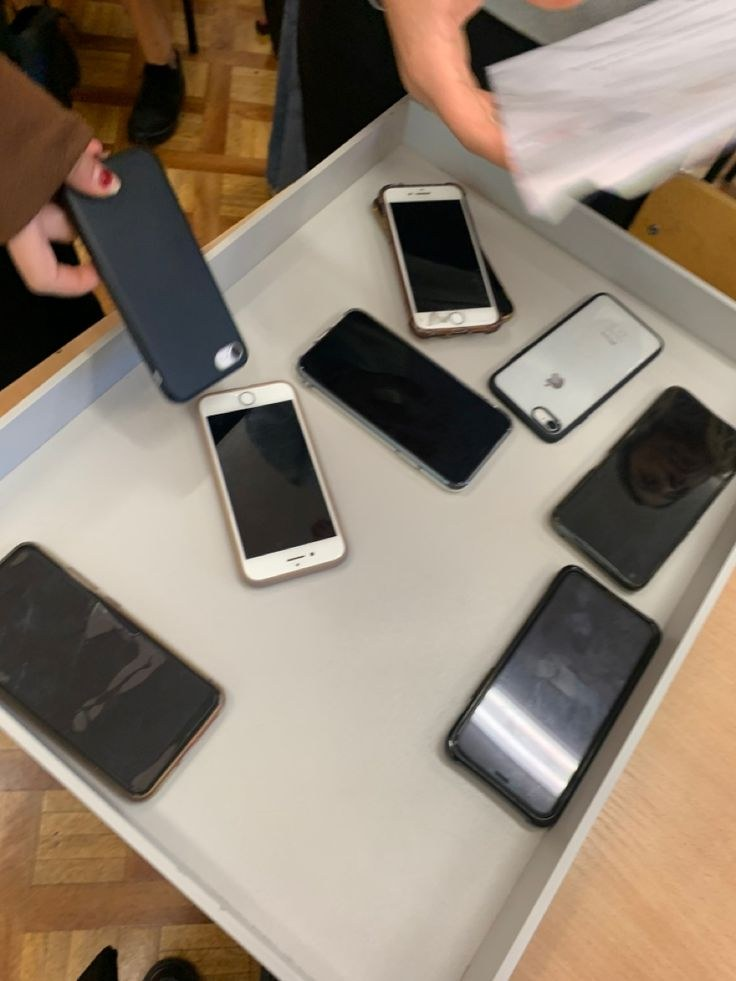cell phone: (1, 539, 230, 807), (446, 565, 658, 827), (57, 150, 250, 404), (301, 306, 511, 493), (552, 387, 736, 592), (196, 380, 347, 587), (495, 297, 665, 443), (377, 182, 514, 338), (376, 197, 517, 315)
